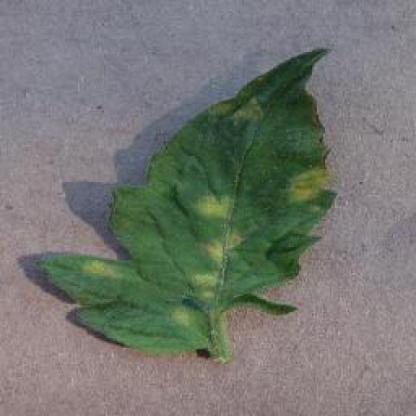Strawberry_Anthracnose_Fruit_Rot: (283, 166, 329, 202), (188, 188, 237, 219), (198, 232, 232, 269), (188, 272, 227, 303)
